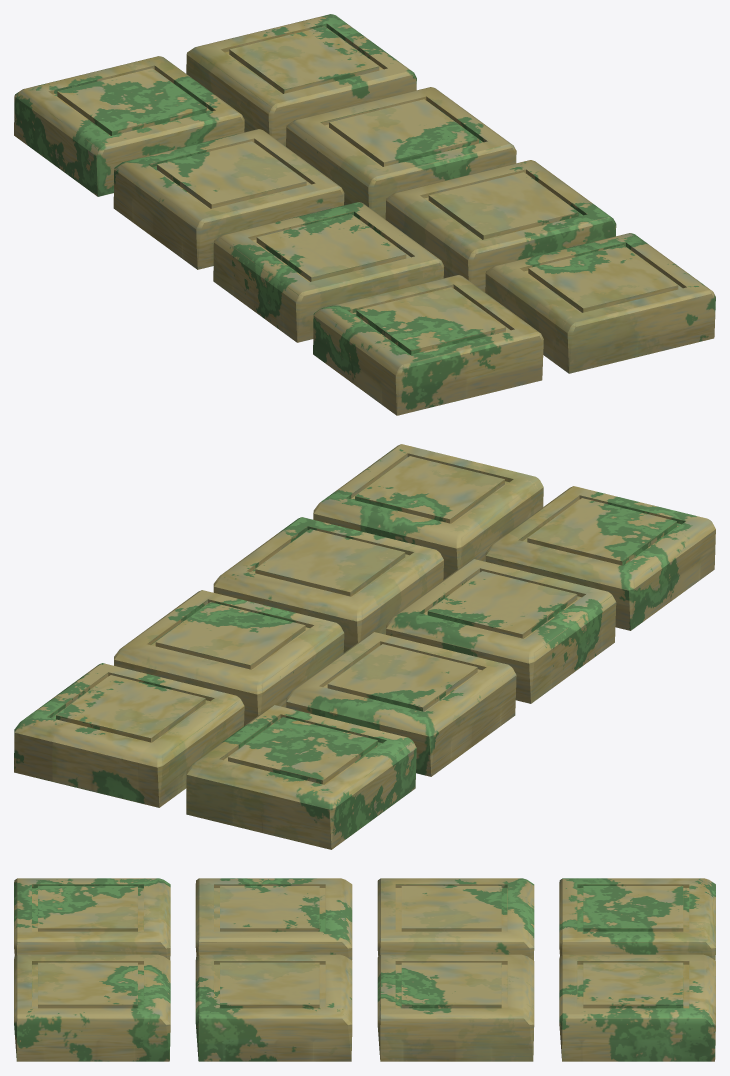
The model's file is PressurePlates.fbx.
The picture shows the model from 3 angles, top to bottom: view 1: azimuth 30°, elevation 25°; view 2: azimuth 150°, elevation 25°; view 3: azimuth 270°, elevation 25°; orthographic projection. The views are drawn at different scales.
Parts seen in each view (by area): view 1: PressurePlate.001, PressurePlate.003, PressurePlate.004, PressurePlate.007, PressurePlate.008, PressurePlate.009, PressurePlate.006, PressurePlate.005; view 2: PressurePlate.008, PressurePlate.009, PressurePlate.007, PressurePlate.001, PressurePlate.004, PressurePlate.003, PressurePlate.006, PressurePlate.005; view 3: PressurePlate.006, PressurePlate.005, PressurePlate.003, PressurePlate.009, PressurePlate.004, PressurePlate.007, PressurePlate.001, PressurePlate.008.
Boxes of the visible parts, <box> form: PressurePlate.001: <box>313,275,543,415</box>; PressurePlate.003: <box>485,233,715,373</box>; PressurePlate.004: <box>213,202,444,342</box>; PressurePlate.007: <box>113,129,344,269</box>; PressurePlate.008: <box>14,56,244,196</box>; PressurePlate.009: <box>186,14,416,146</box>; PressurePlate.006: <box>286,87,516,219</box>; PressurePlate.005: <box>385,160,616,292</box>; PressurePlate.008: <box>186,705,416,849</box>; PressurePlate.009: <box>14,663,244,807</box>; PressurePlate.007: <box>286,632,516,776</box>; PressurePlate.001: <box>485,486,715,630</box>; PressurePlate.004: <box>386,559,616,703</box>; PressurePlate.003: <box>313,444,543,579</box>; PressurePlate.006: <box>114,590,344,725</box>; PressurePlate.005: <box>213,517,443,652</box>; PressurePlate.006: <box>377,954,534,1061</box>; PressurePlate.005: <box>195,954,352,1061</box>; PressurePlate.003: <box>14,954,170,1061</box>; PressurePlate.009: <box>559,954,715,1061</box>; PressurePlate.004: <box>195,878,352,960</box>; PressurePlate.007: <box>377,878,534,960</box>; PressurePlate.001: <box>14,878,170,960</box>; PressurePlate.008: <box>559,878,715,960</box>.
Bounding box in the file's own units: 746 × 112 × 1552.
1 material, 1 textured.
